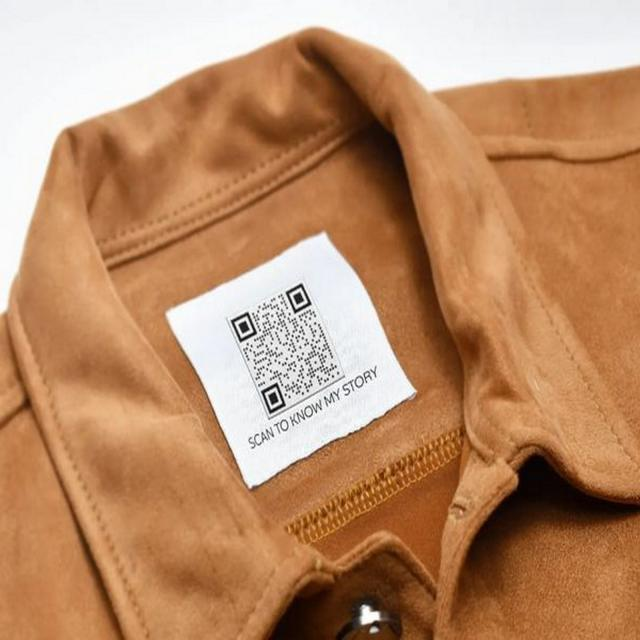qr_code: (230, 283, 340, 414)
